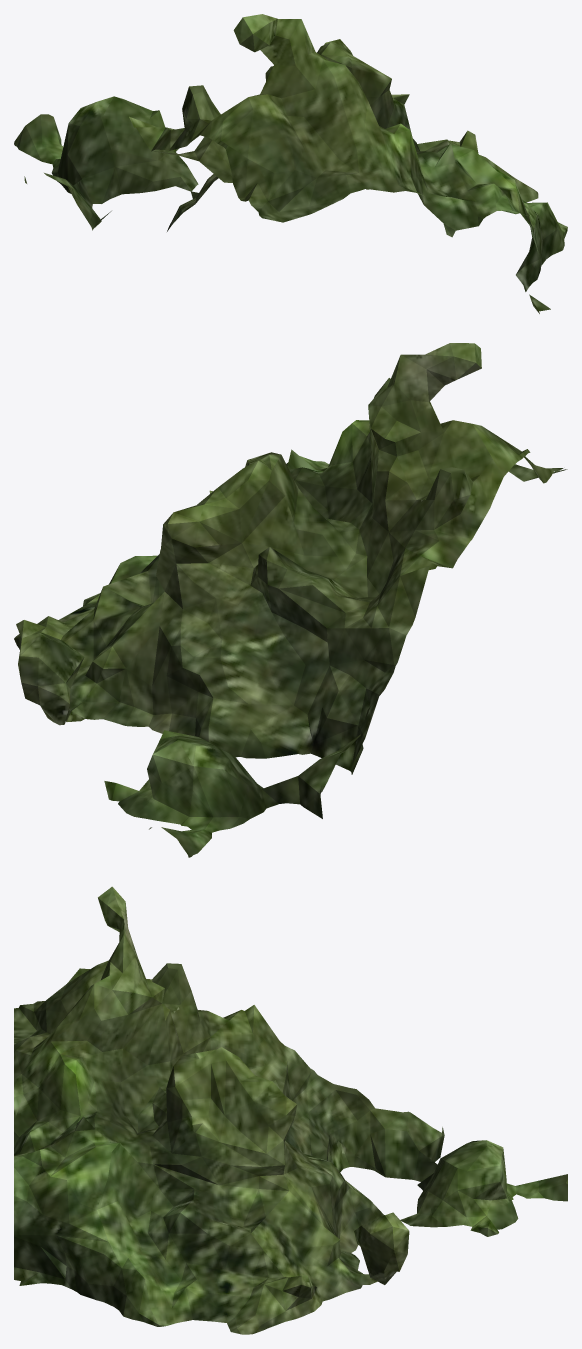
3 views of the same model, one above another, from view 1: azimuth 30°, elevation 25°; view 2: azimuth 150°, elevation 25°; view 3: azimuth 270°, elevation 25° (orthographic). The views are drawn at different scales.
Size of the model in its own units: 2.23 by 1.68 by 2.95.
2 materials, 2 textured.
